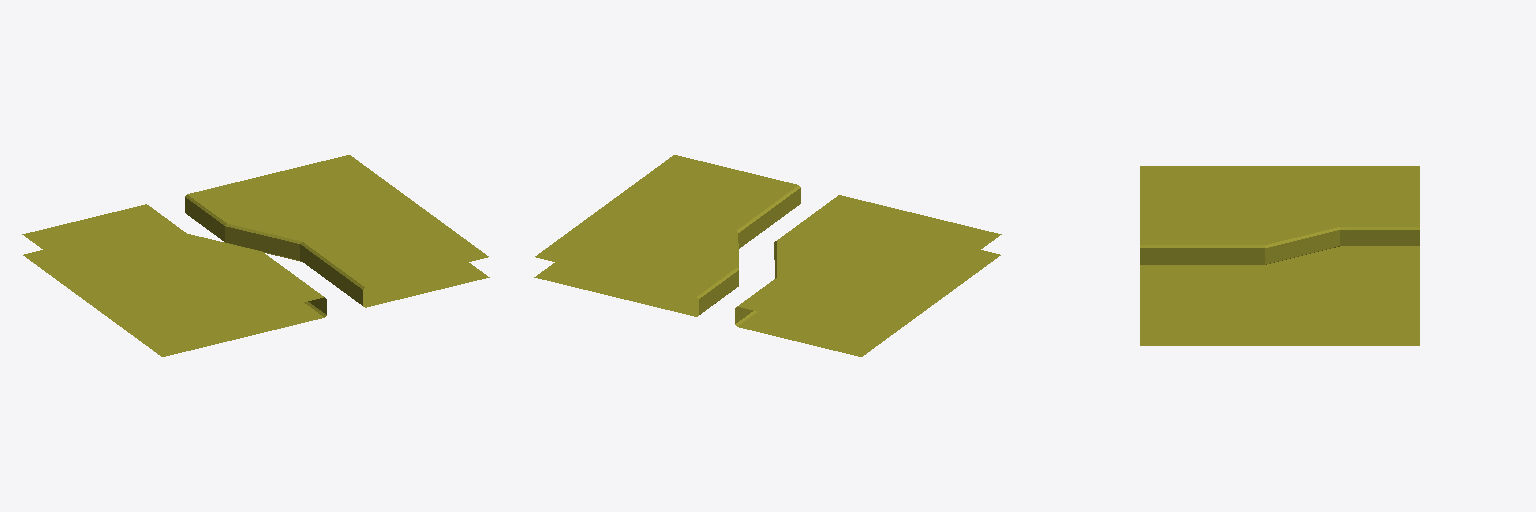
The model's file is BasicDoor.obj.
The picture shows the model from 3 angles: view 1: azimuth 30°, elevation 25°; view 2: azimuth 150°, elevation 25°; view 3: azimuth 270°, elevation 25°; orthographic projection.
Parts seen in each view (by area): view 1: Box003; view 2: Box003; view 3: Box003.
Part boxes in pixels (x1,y1,x2,y2): Box003: (22, 155, 489, 356); Box003: (534, 155, 1001, 356); Box003: (1140, 166, 1419, 345).
Size of the model in its own units: 133 by 7.87 by 98.43.